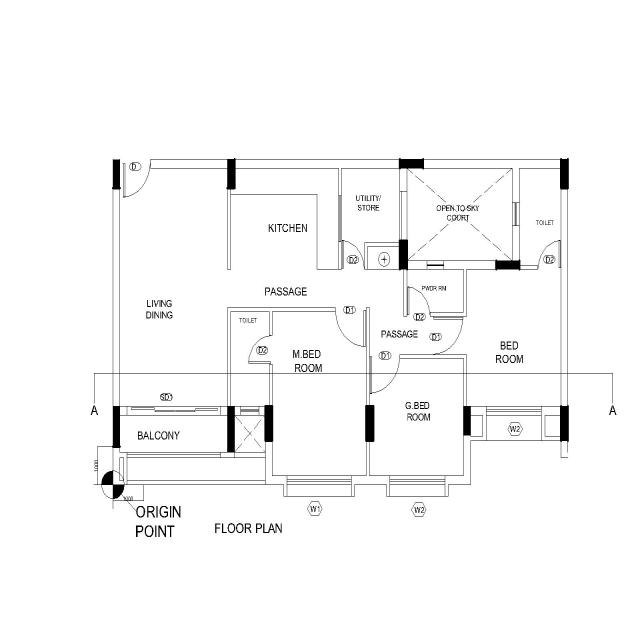Column: (364, 404, 376, 443), (112, 405, 122, 449), (227, 405, 236, 453), (560, 404, 570, 442), (264, 405, 274, 443), (398, 239, 409, 273), (560, 156, 570, 192), (398, 158, 425, 170), (226, 158, 236, 190), (462, 405, 472, 437), (495, 259, 521, 271), (112, 158, 121, 190)
Door: (332, 306, 368, 314), (268, 333, 274, 367), (368, 354, 401, 359), (433, 316, 437, 356), (406, 310, 432, 316), (340, 264, 366, 270), (537, 264, 562, 270)
Sliding Door: (126, 405, 222, 417)
Ventilator: (511, 200, 521, 228), (240, 405, 260, 417), (426, 259, 446, 271)
Window: (286, 474, 352, 488), (389, 473, 446, 487), (484, 405, 544, 417)
